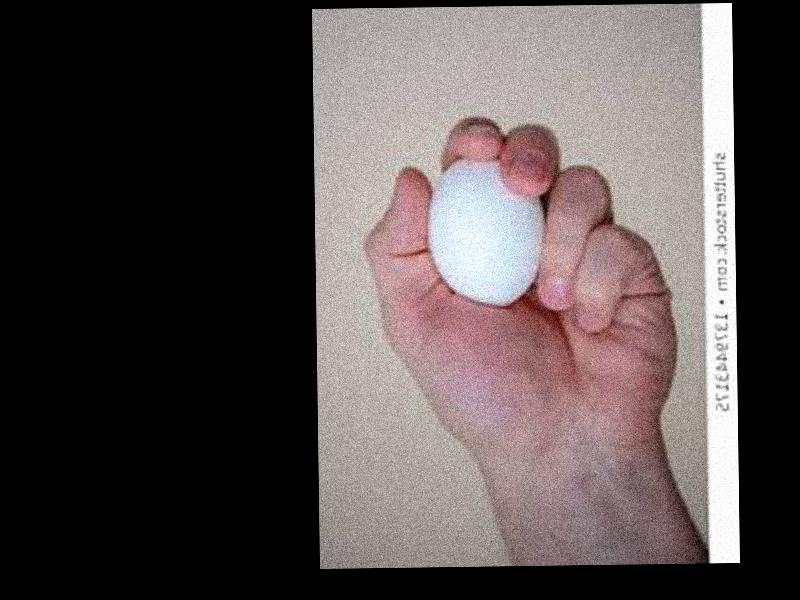Eggs: (427, 158, 544, 309)
